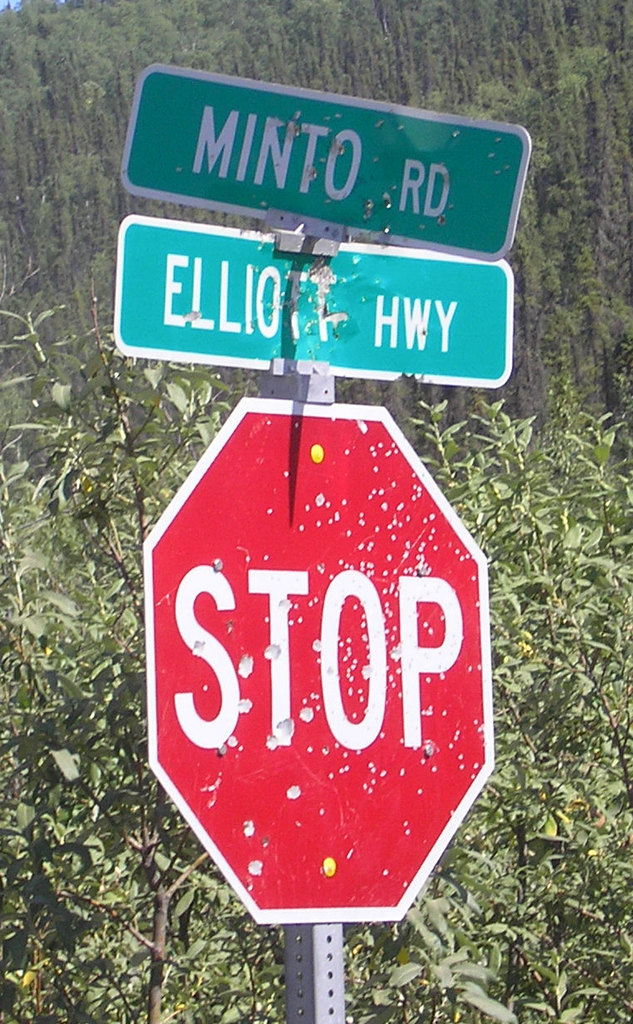stop: (139, 390, 514, 922)
